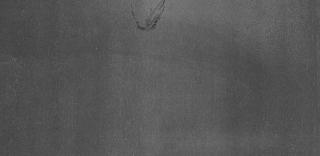water spot: (120, 1, 172, 35)
